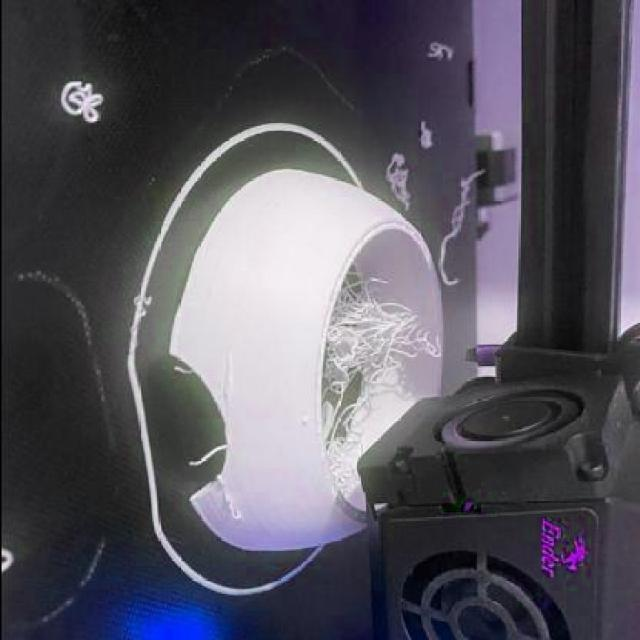Spaghetti: (305, 259, 443, 501), (434, 165, 489, 284), (378, 150, 413, 213)
